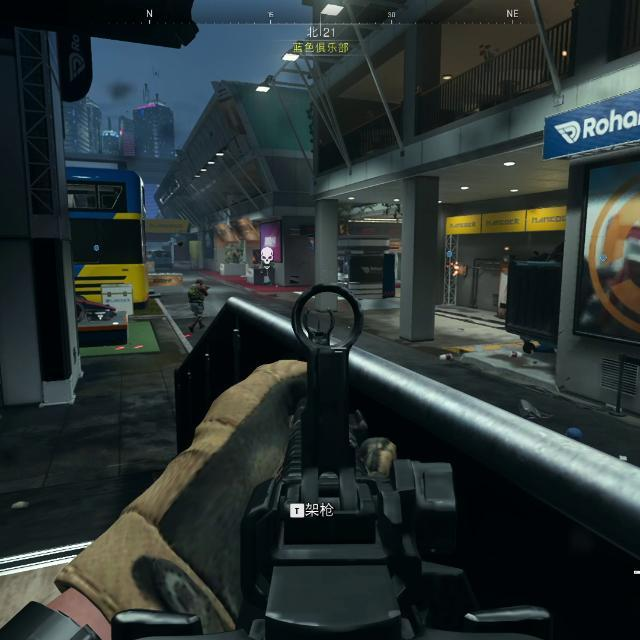MW2_body: (187, 278, 209, 329)
